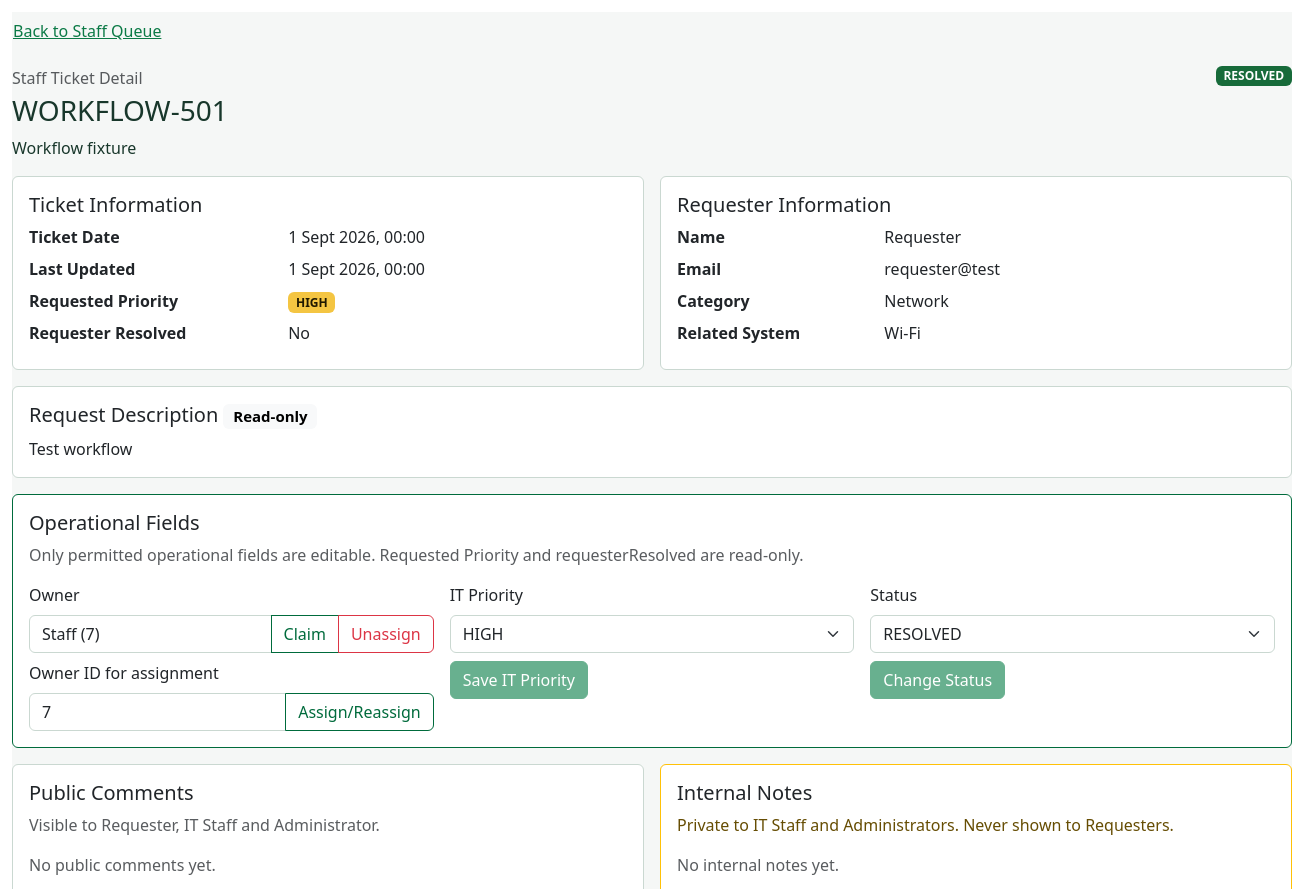
Scenario: UI-05 Ticket workflow › guards repeated save clicks and updates summary after success
Expected: the heading "WORKFLOW-501" is shown, [12,94,228,128]
Select "CLOSED" in the dropdown labelled "Status". click: point(1073, 634)
box: [870,615,1275,653]
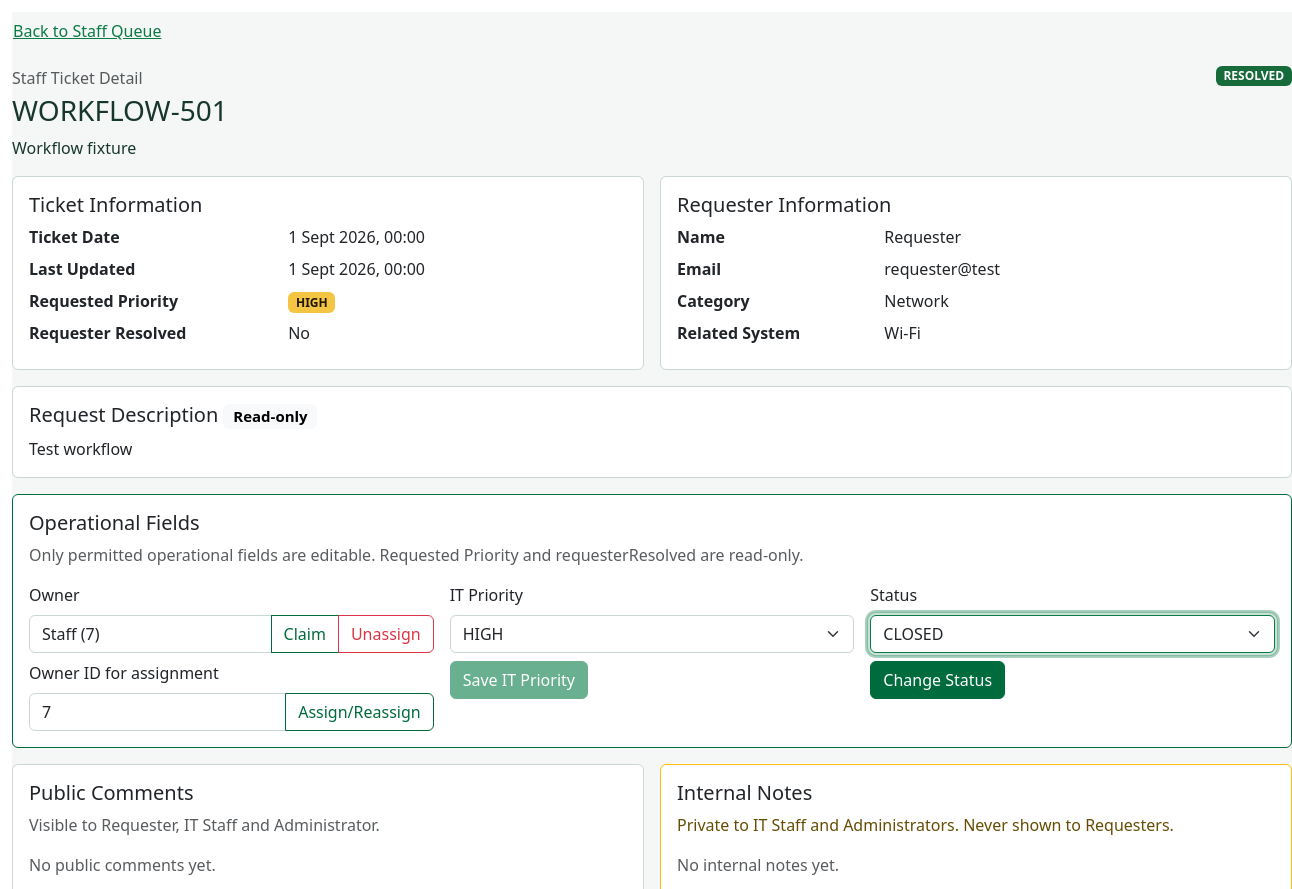
Double-click the button "Change Status" at point(938, 680), box [870,661,1005,699]
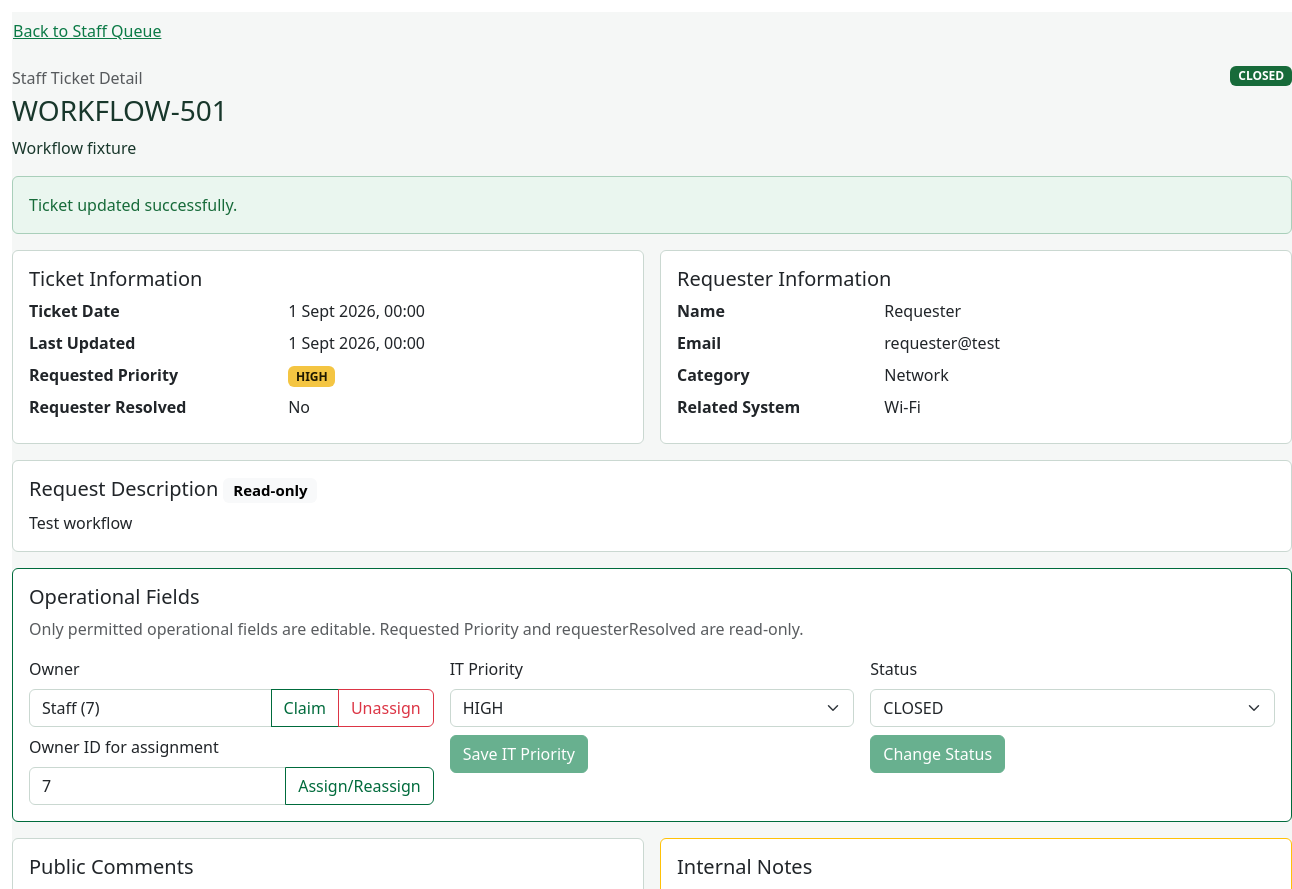
Now the button named "Saving status..." is disabled, box [870,735,1005,773]
